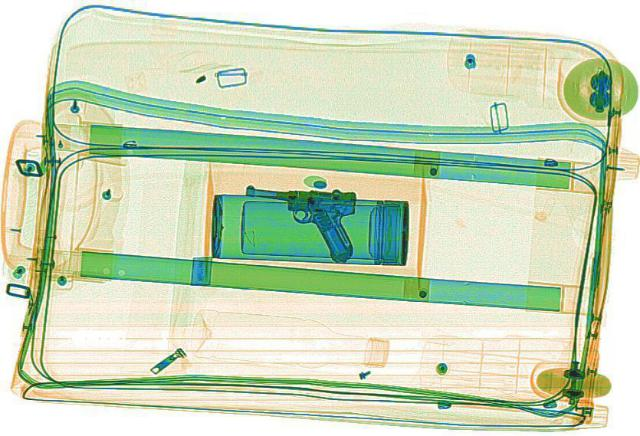Gun: (234, 182, 362, 262)
